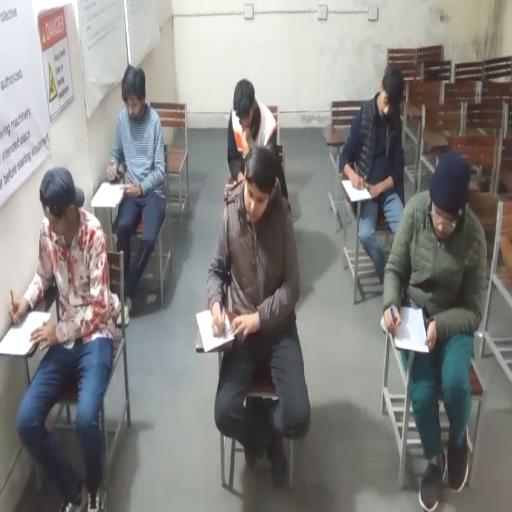paper: (0, 312, 50, 356), (394, 308, 428, 353), (197, 311, 234, 351), (92, 183, 123, 207), (342, 181, 371, 202)
